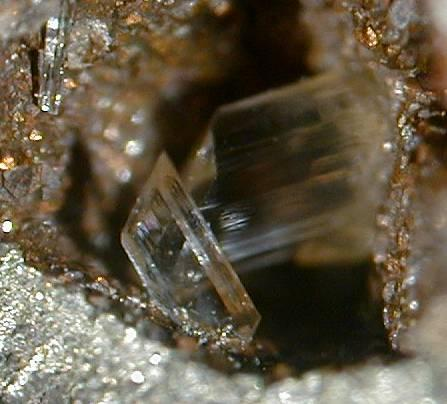gypsum: (121, 72, 397, 356)
